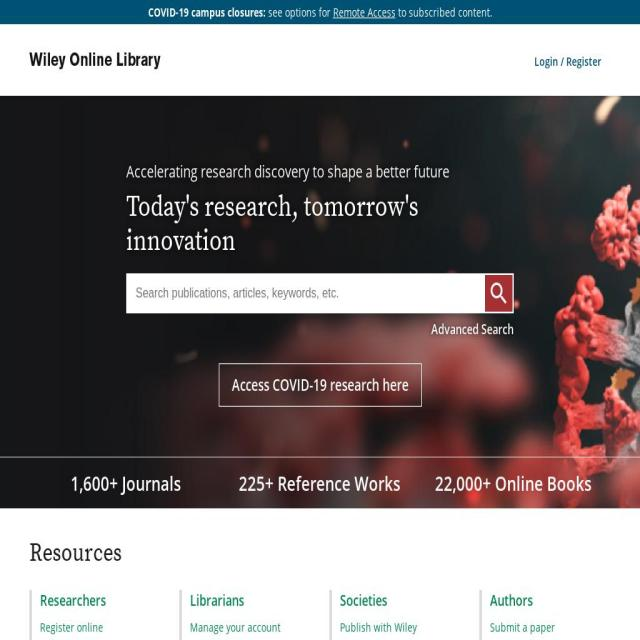button: (218, 363, 422, 407), (239, 469, 401, 500), (435, 469, 593, 500), (70, 469, 182, 500), (534, 53, 602, 69)
field: (126, 274, 514, 314)
heading: (29, 540, 610, 567), (40, 590, 106, 610), (190, 590, 244, 610), (340, 590, 388, 610), (490, 590, 533, 610)
image: (30, 50, 160, 71), (484, 273, 511, 310)
link: (431, 320, 514, 338), (190, 619, 281, 635), (340, 619, 417, 635), (490, 619, 555, 635), (332, 4, 396, 20), (40, 619, 103, 635)
text: (126, 190, 514, 258), (126, 163, 514, 180), (147, 4, 266, 20), (395, 4, 493, 20), (265, 4, 333, 20), (534, 53, 602, 69)
